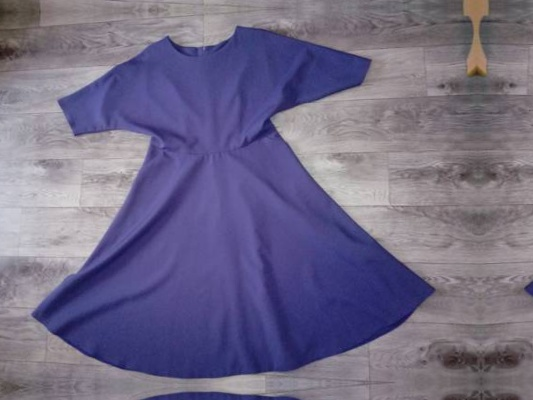Dress: (20, 19, 440, 371), (518, 12, 533, 364), (25, 399, 446, 400), (523, 393, 533, 400)
